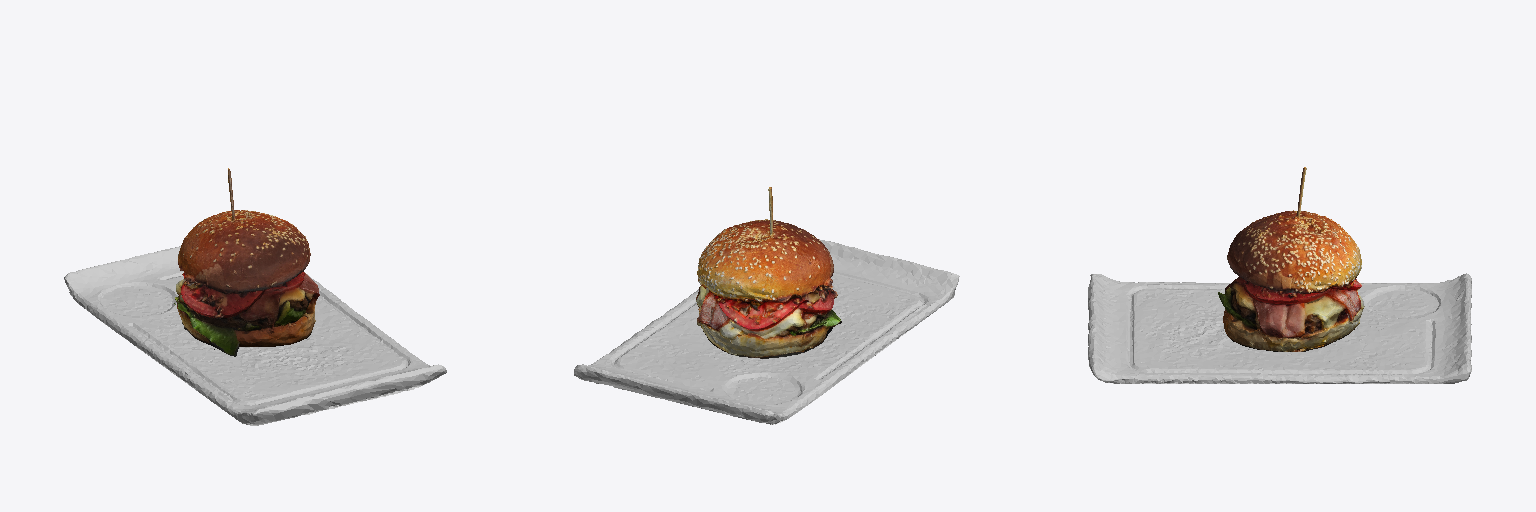
The picture shows the model from 3 angles: view 1: azimuth 30°, elevation 25°; view 2: azimuth 150°, elevation 25°; view 3: azimuth 270°, elevation 25°; orthographic projection.
Visible parts, largest first — view 1: mmGroup0; view 2: mmGroup0; view 3: mmGroup0.
Boxes of the visible parts, x1,y1,x2,y2 form: mmGroup0: [64, 168, 446, 425]; mmGroup0: [574, 187, 959, 424]; mmGroup0: [1088, 167, 1471, 383].
Bounding box in the file's own units: 0.1826 × 0.1403 × 0.3002.
Materials: 2 (1 with a texture image).